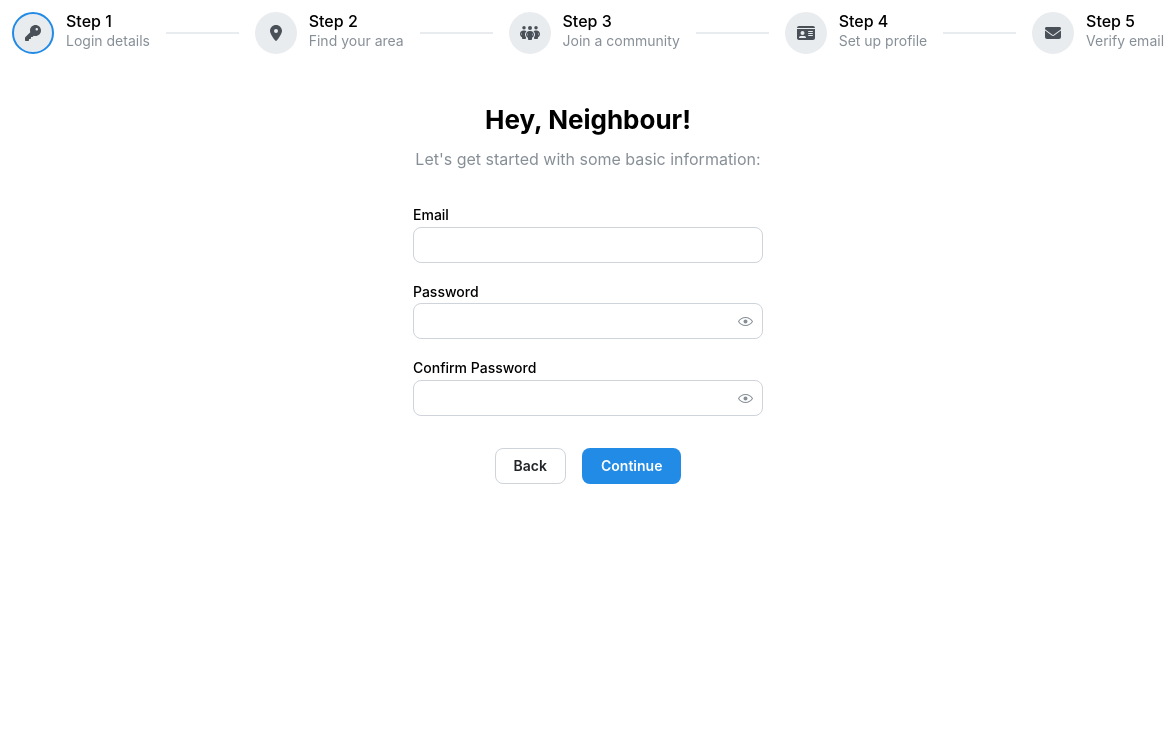
it: Initial Component & Step 1: Login Details › Doesnt navigate to Step 2 if password is present but too short
This screenshot has width=1176, height=732.
Type "user@email.com" into the field with test id "email" at [588, 245], box [413,227,763,263]
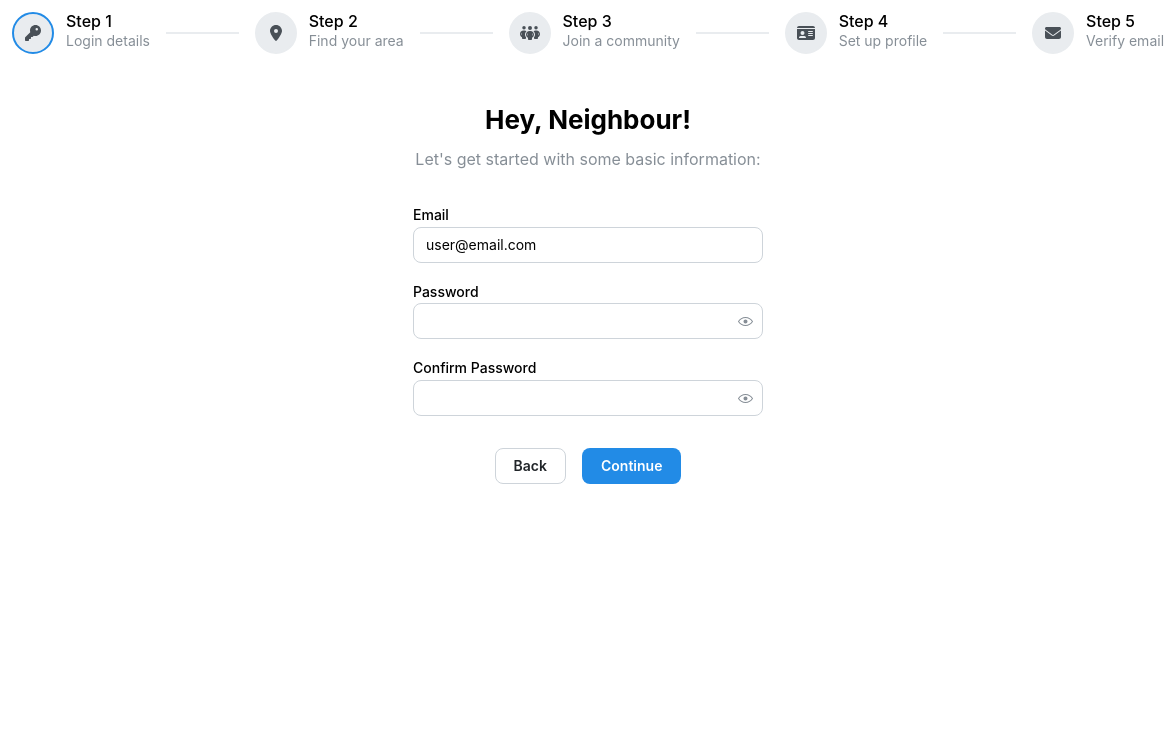
Type "pas" into the password field with test id "password" at [588, 322], box [414,304,762,338]
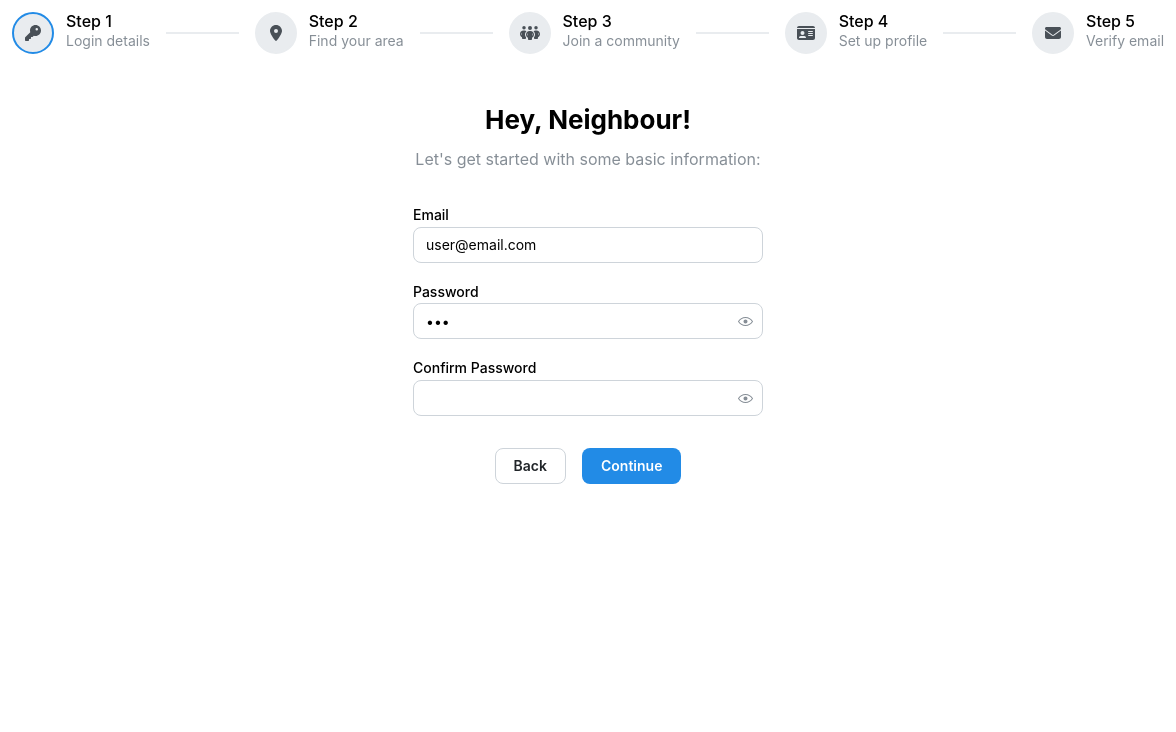
Type "pas" into the password field with test id "confirmPassword" at [588, 398], box [414,381,762,415]
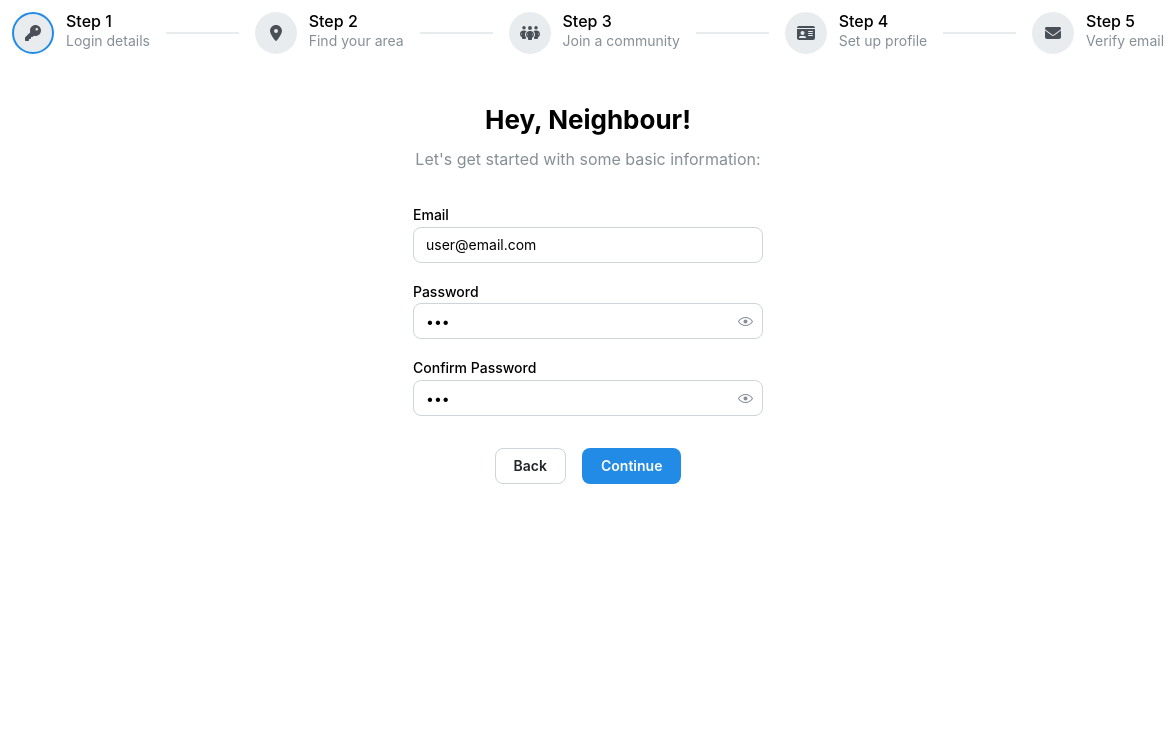
Click the button "Continue" at [632, 466], box [582,448,681,484]
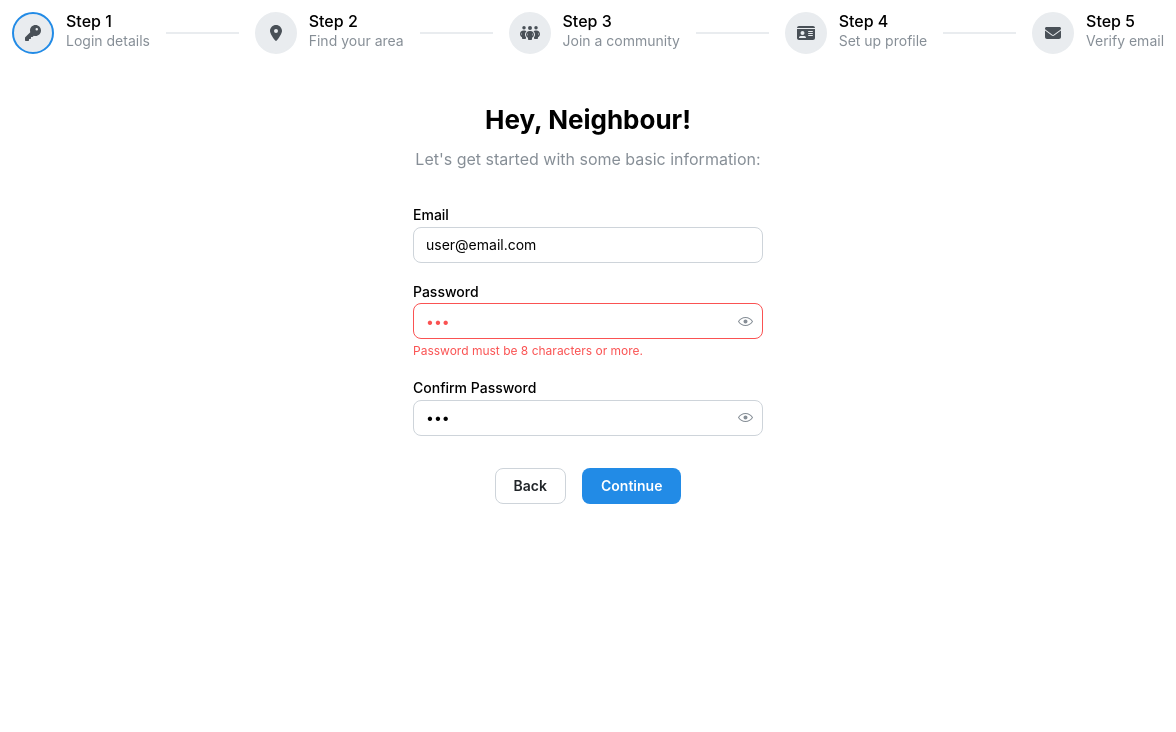
Expected: the text "Password must be 8 characters or more." is shown, [413,344,643,358]
